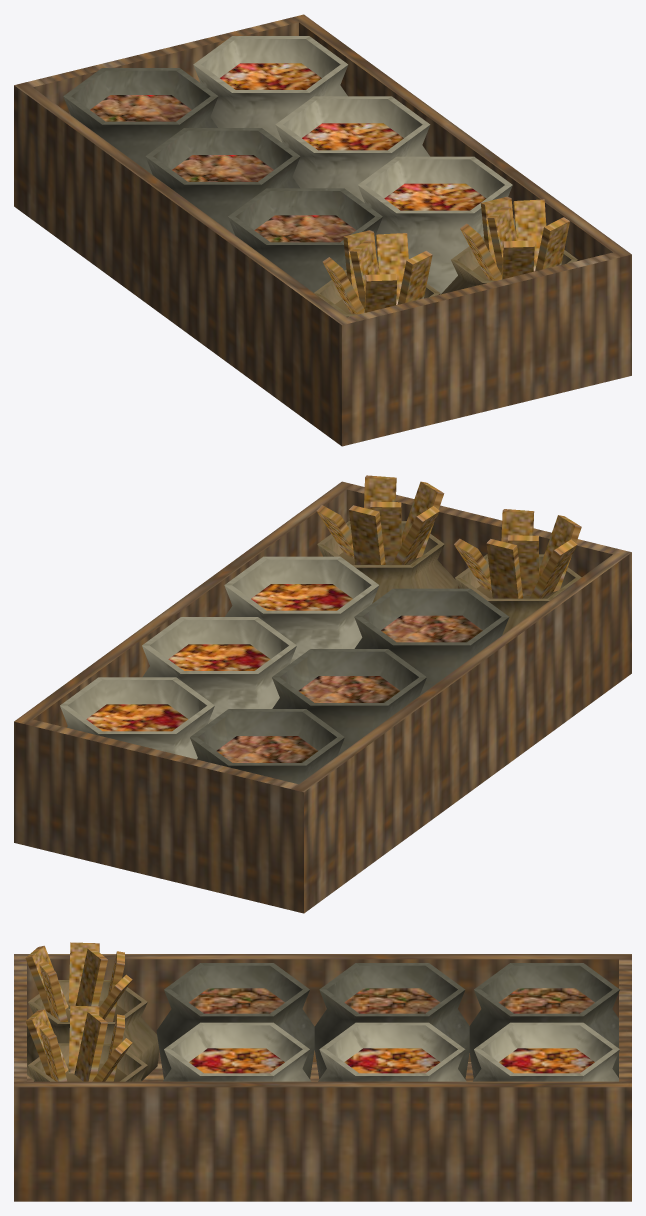
File: basket-of-jars.glb
3 views of the same model, one above another, from view 1: azimuth 30°, elevation 25°; view 2: azimuth 150°, elevation 25°; view 3: azimuth 270°, elevation 25° (orthographic). The views are drawn at different scales.
Parts seen in each view (by area): view 1: basket02, jar02.002, jar02.001, jar02, jar01.001, jar01, jar01.002, jar03.001, jar03; view 2: basket02, jar02.002, jar02.001, jar03.001, jar01.002, jar01.001, jar03, jar02, jar01; view 3: basket02, jar01.002, jar01.001, jar01, jar03, jar02.001, jar02.002, jar02, jar03.001.
Part boxes in pixels (<box>): basket02: <box>14,14,631,446</box>; jar02.002: <box>358,156,514,294</box>; jar02.001: <box>275,96,430,202</box>; jar02: <box>193,36,348,142</box>; jar01.001: <box>145,128,300,234</box>; jar01: <box>63,68,218,174</box>; jar01.002: <box>228,188,382,292</box>; jar03.001: <box>441,196,577,294</box>; jar03: <box>314,230,440,317</box>; basket02: <box>14,481,631,913</box>; jar02.002: <box>224,556,379,663</box>; jar02.001: <box>142,617,296,723</box>; jar03.001: <box>316,475,458,603</box>; jar01.002: <box>354,588,509,695</box>; jar01.001: <box>272,649,426,755</box>; jar03: <box>454,509,581,635</box>; jar02: <box>60,677,214,759</box>; jar01: <box>190,709,344,784</box>; basket02: <box>14,954,631,1201</box>; jar01.002: <box>156,963,314,1078</box>; jar01.001: <box>314,963,469,1078</box>; jar01: <box>469,963,619,1078</box>; jar03: <box>25,942,159,1080</box>; jar02.001: <box>318,1022,466,1081</box>; jar02.002: <box>163,1022,310,1081</box>; jar02: <box>473,1022,619,1081</box>; jar03.001: <box>25,1005,147,1081</box>.
Bounding box in the file's own units: 0.2503 × 0.1267 × 0.4903.
Materials: 5 (5 with a texture image).
